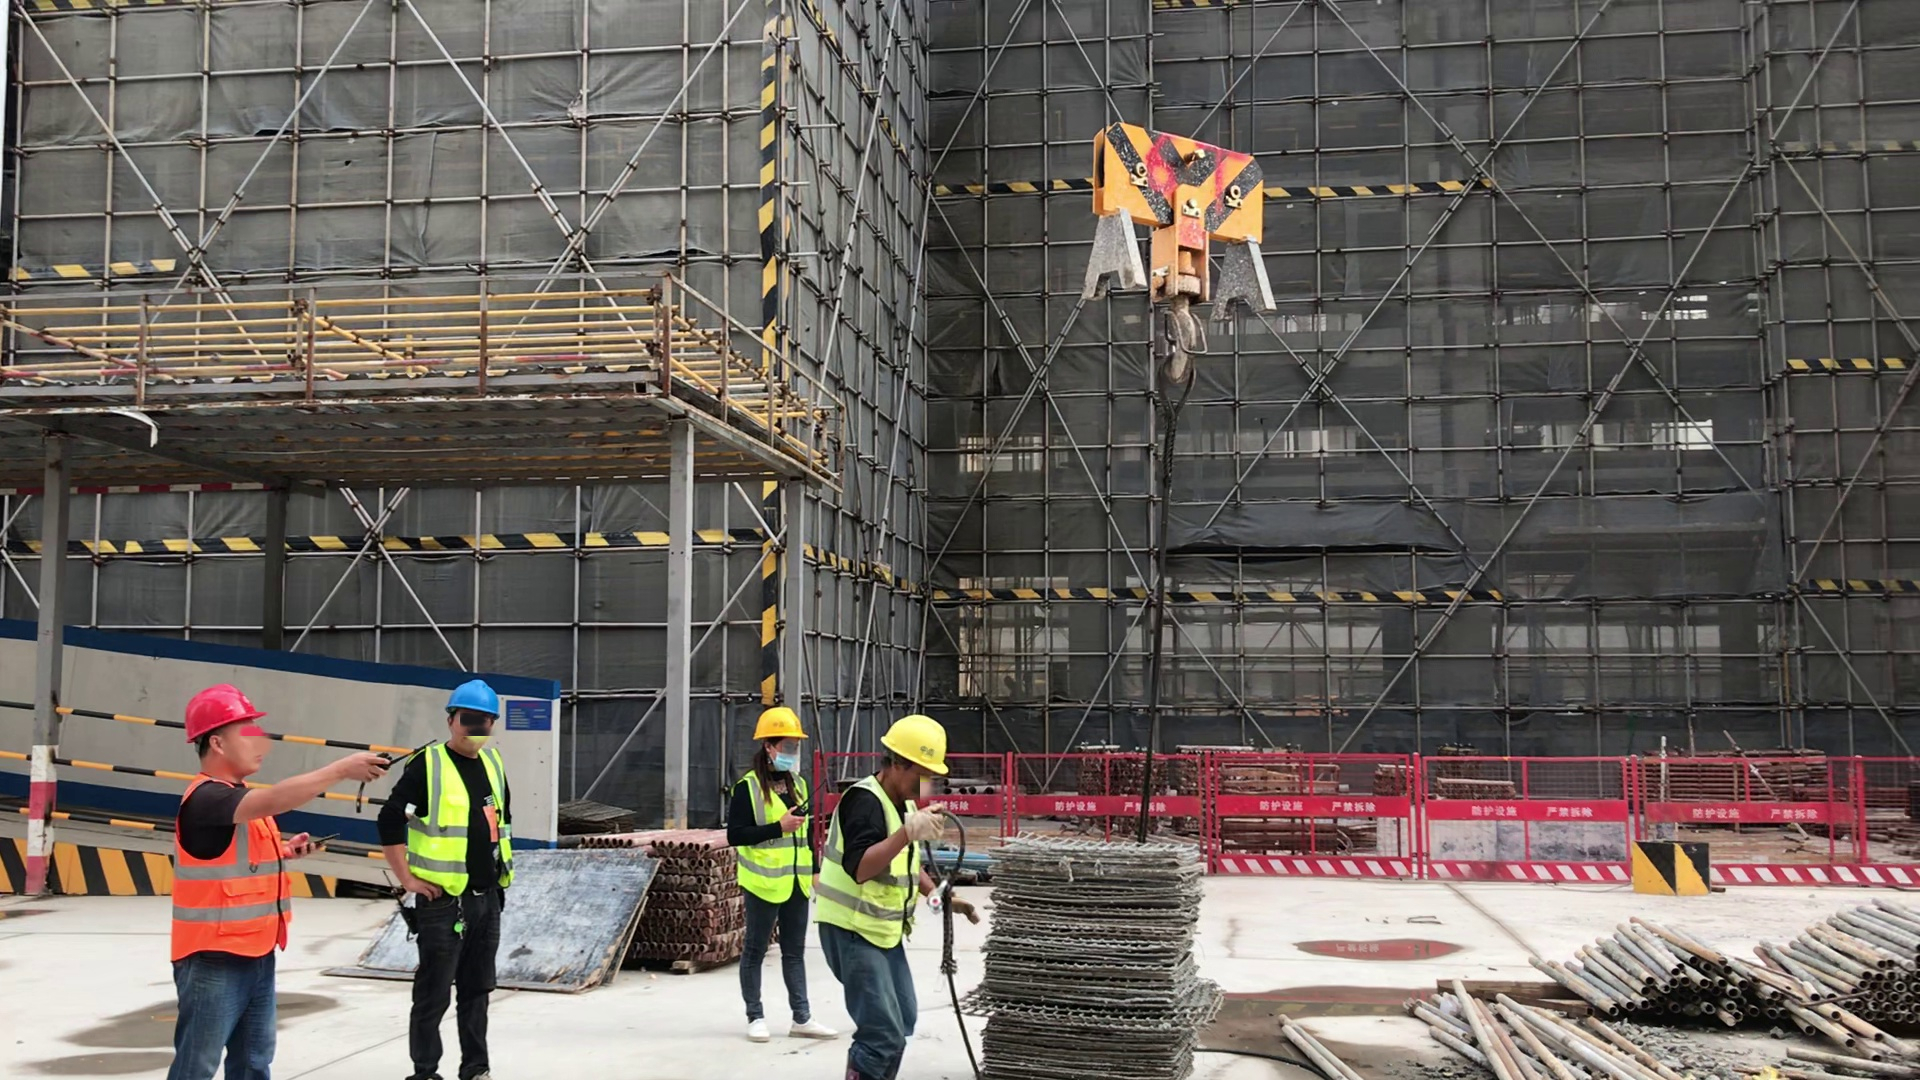helmet: (178, 677, 267, 745), (879, 711, 950, 775), (441, 676, 505, 717), (750, 703, 810, 740)
person: (159, 683, 443, 1080), (380, 676, 521, 1076), (820, 706, 963, 1080), (723, 703, 844, 1051)
vest: (169, 771, 300, 962), (406, 746, 517, 906), (818, 777, 917, 953), (726, 775, 817, 907)
